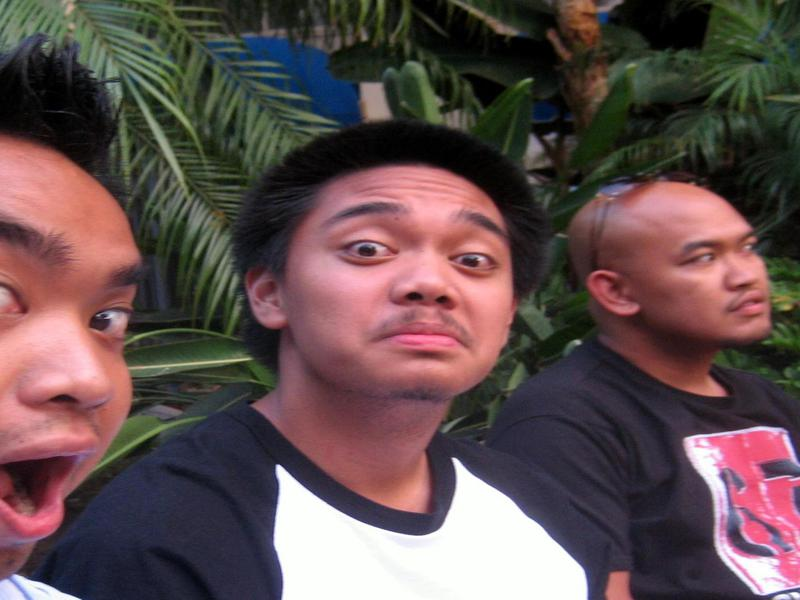person: (47, 126, 609, 600), (496, 176, 797, 598), (1, 28, 158, 600)
